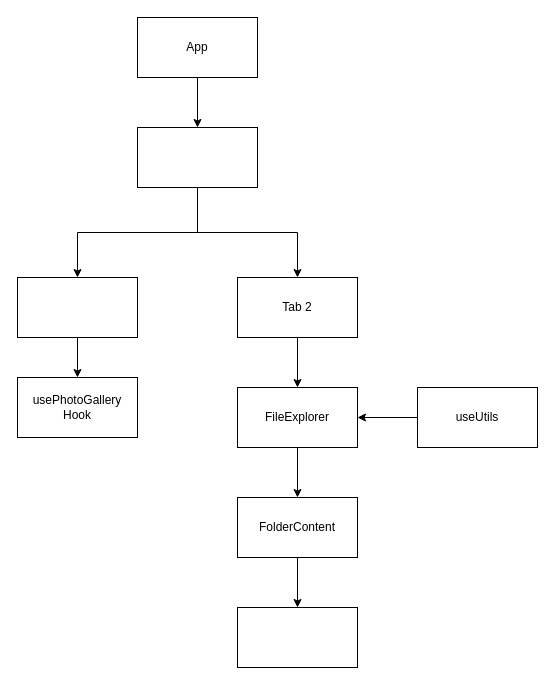
The diagram is 555 pixels wide and 685 high, and some of its shapes have lost their labels. Here are the shapes that lost their labels. From the top down, the centre of each, then its label:
pixel 197 157: Tabs
pixel 77 307: Tab 1
pixel 297 637: FolderItem
